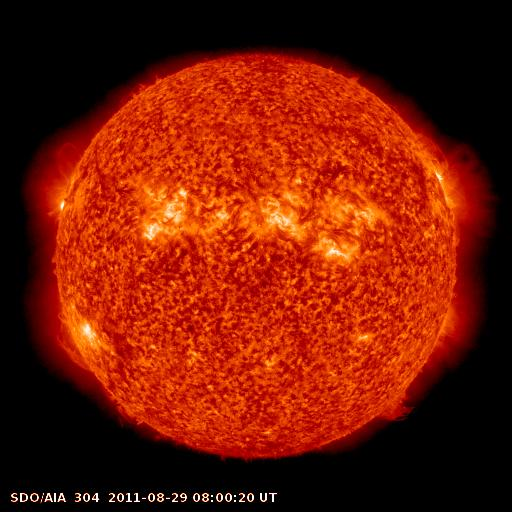prominence: (49, 310, 94, 378), (101, 385, 153, 430), (410, 123, 452, 175), (367, 386, 417, 427)
